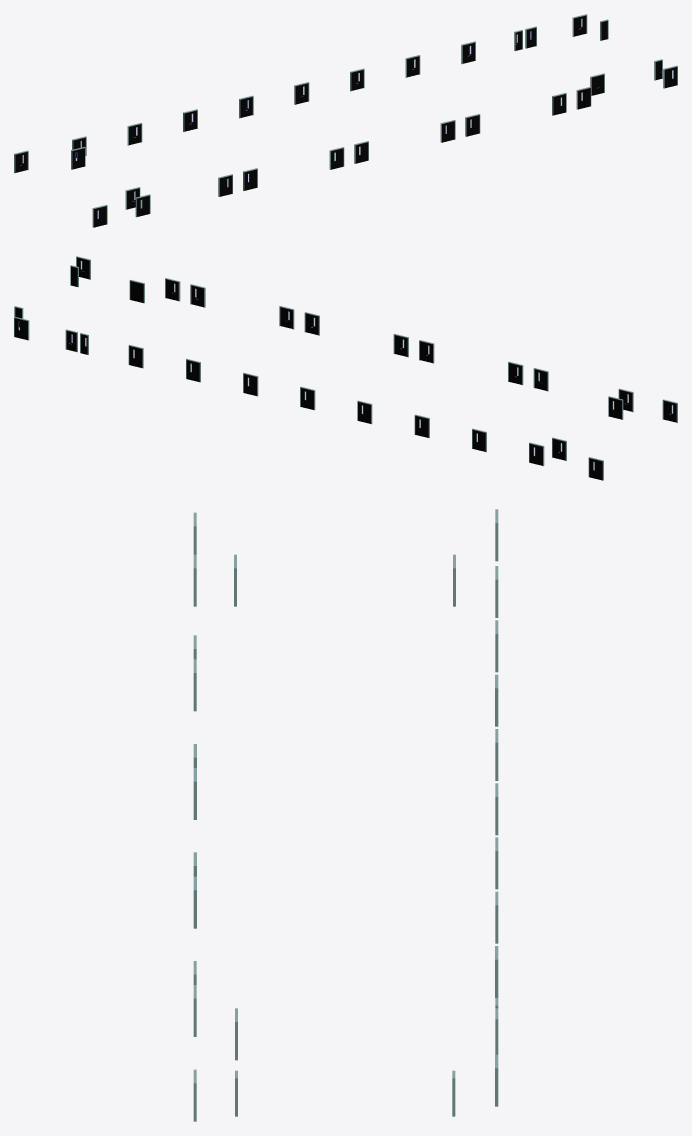
File: 4F_Door.fbx
3 renders of one model, top to bottom at view 1: azimuth 30°, elevation 25°; view 2: azimuth 150°, elevation 25°; view 3: azimuth 270°, elevation 25°, orthographic. The views are drawn at different scales.
Bounding box in the file's own units: 76.67 × 2.4 × 17.21.
